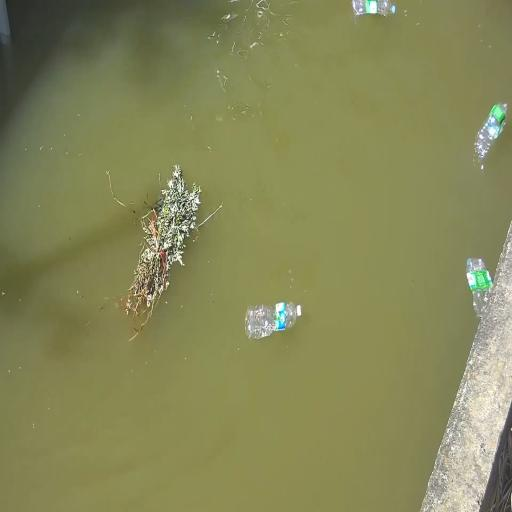plastic: (246, 302, 301, 339), (475, 103, 507, 161), (467, 258, 492, 318)
twig: (126, 165, 202, 328)
